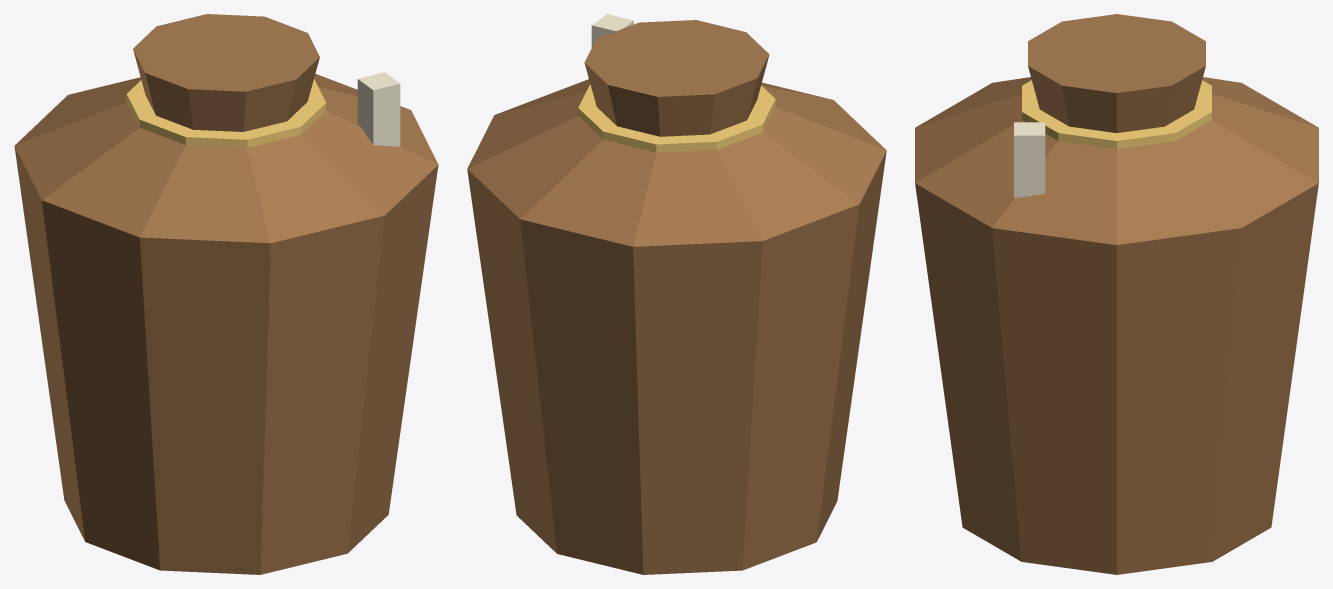
Rendered from loot_pouch.glb.
The picture shows the model from 3 angles, left to right: view 1: azimuth 30°, elevation 25°; view 2: azimuth 150°, elevation 25°; view 3: azimuth 270°, elevation 25°; orthographic projection.
Parts seen in each view (by area): view 1: loot_pouch; view 2: loot_pouch; view 3: loot_pouch.
Boxes of the visible parts, x1=… form: loot_pouch: x1=14, y1=14, x2=438, y2=574; loot_pouch: x1=467, y1=14, x2=886, y2=574; loot_pouch: x1=915, y1=14, x2=1318, y2=574.
Size of the model in its own units: 0.34 by 0.4 by 0.3234.
